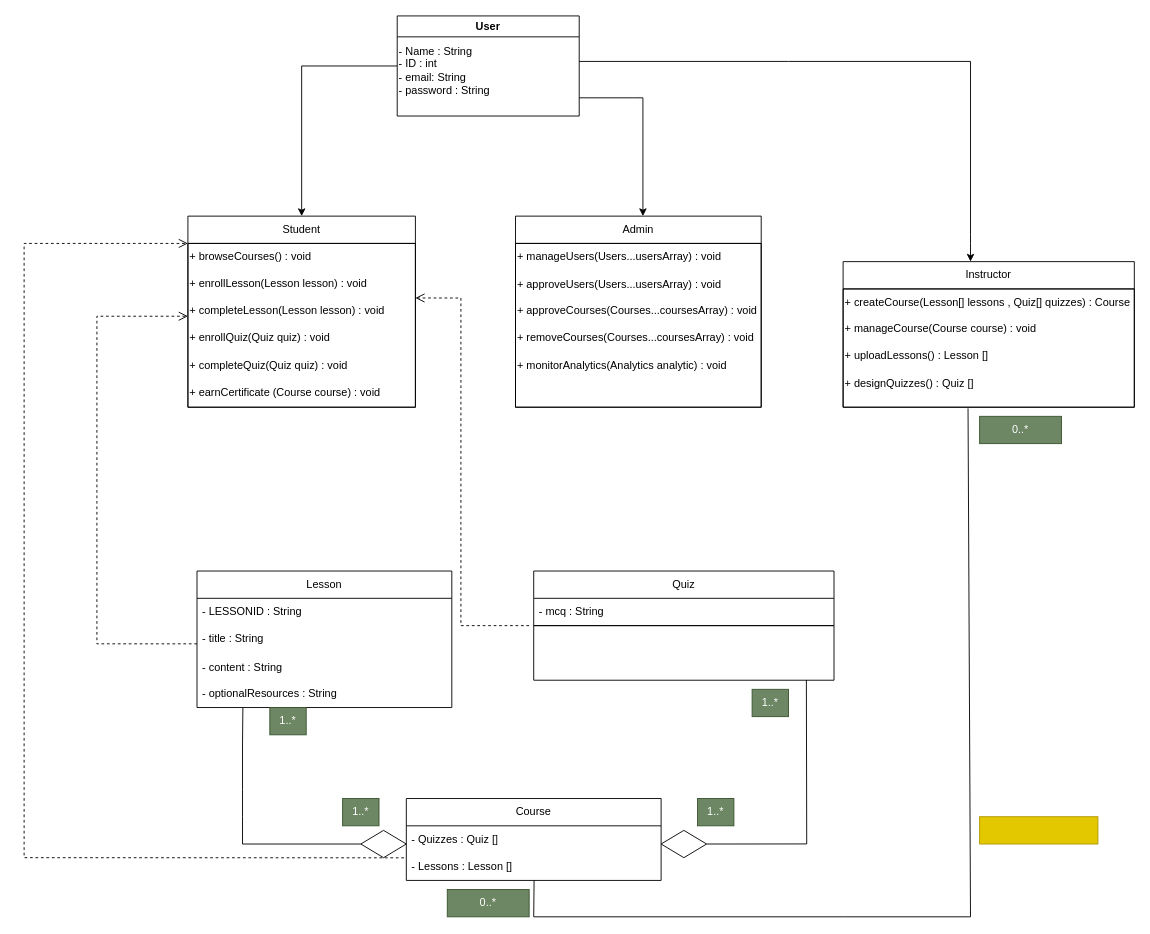
Image size: 1150x934. Some labels were removed from this diagram. Here are the shapes that lost their labels. From the top down, the centre of each, then its label:
At pixel 683 652: "+ evaluateStudentUnderstanding (Student student) : void".
At pixel 1038 830: "createCourse()".
